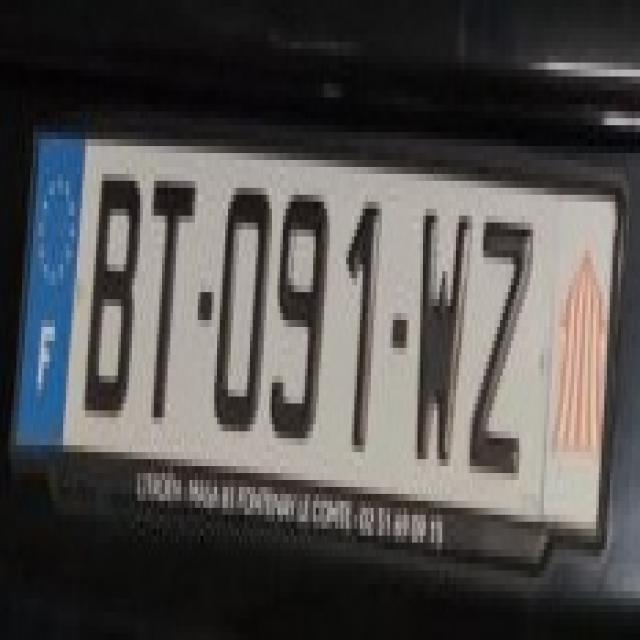EU: (14, 134, 624, 524)
France: (14, 129, 84, 448)
